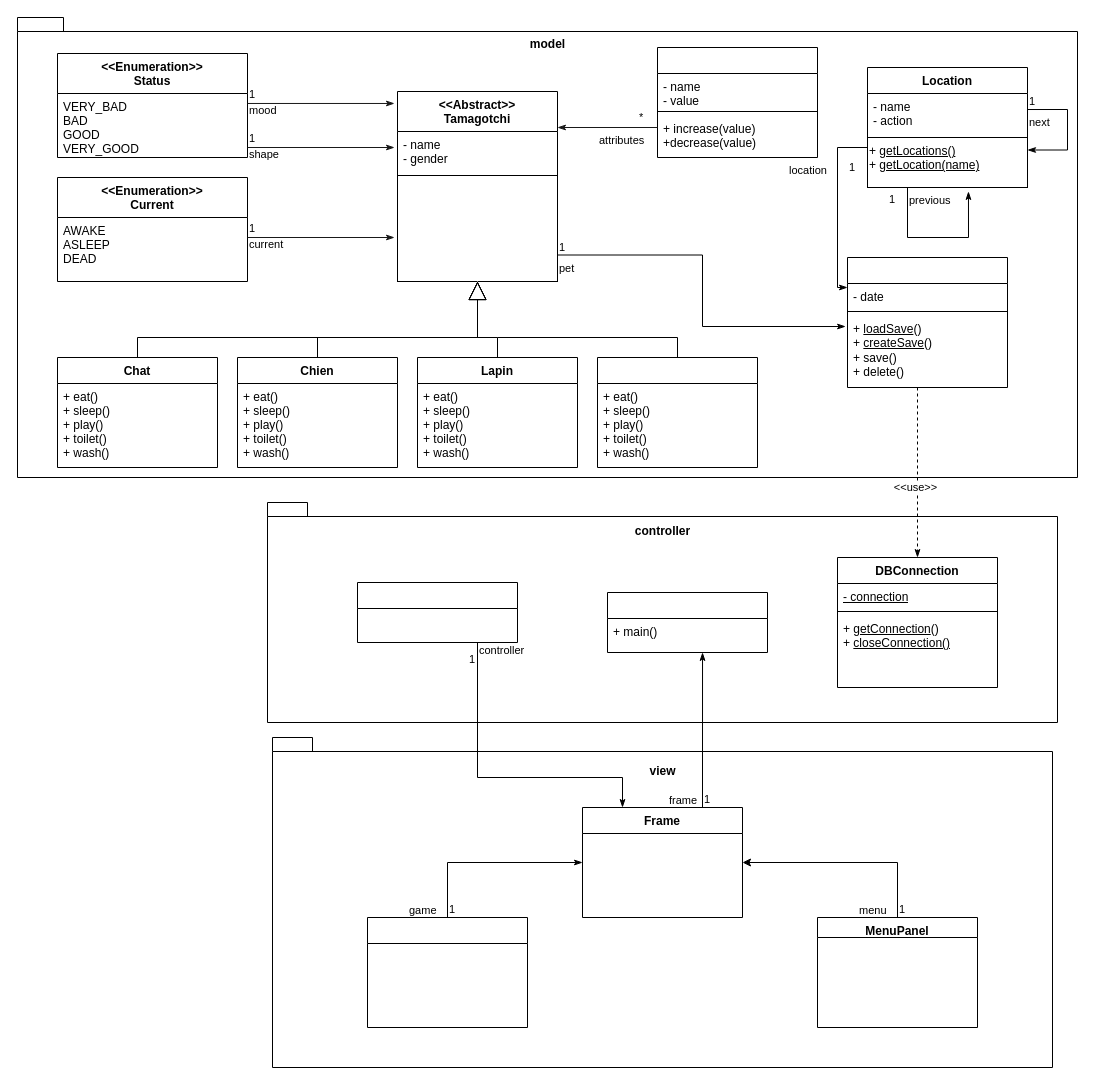
This 1095x1085 diagram has some shape labels left out. The shapes that lost their labels are listed below. From the top down, each one's box as (x1, y1, x2, y2) in pixels, then its label:
(656, 46, 818, 158): Attribute
(396, 174, 558, 282): + eat() + sleep() + play() + toilet() + wash() + update()
(846, 256, 1008, 388): GameSave
(596, 356, 758, 468): Robot
(356, 582, 518, 642): ViewController
(606, 592, 768, 652): GameController
(366, 916, 528, 1028): GamePanel
